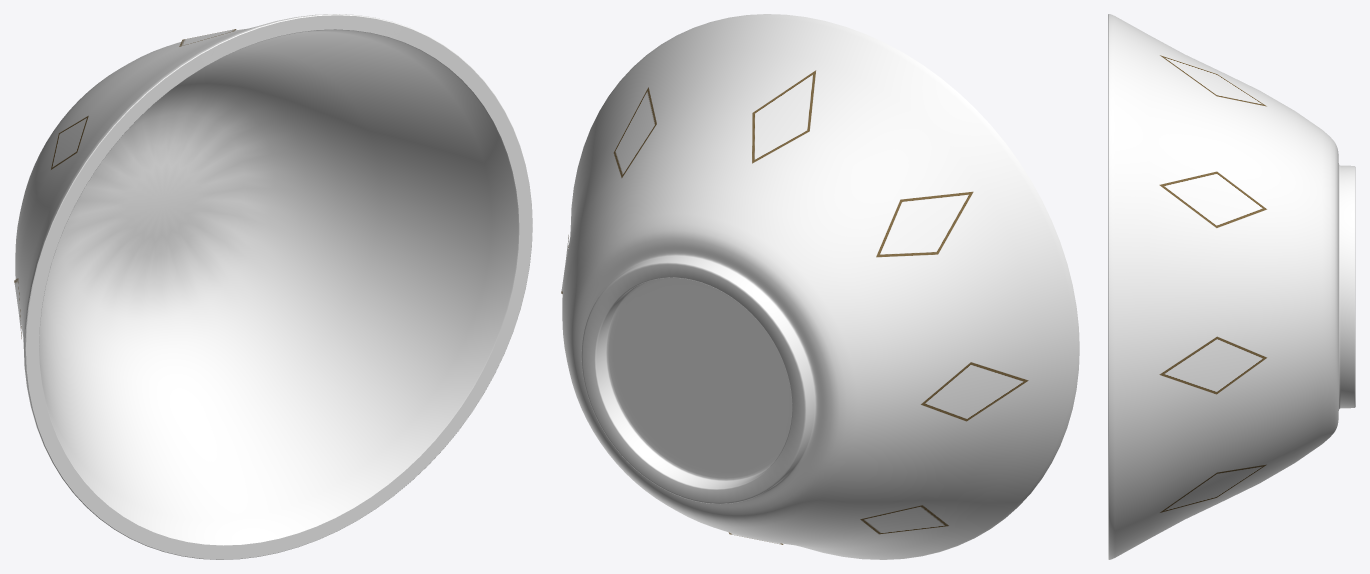
3 views of the same model, side by side, from view 1: azimuth 30°, elevation 25°; view 2: azimuth 150°, elevation 25°; view 3: azimuth 270°, elevation 25° (orthographic). The views are drawn at different scales.
Parts seen in each view (by area): view 1: mk3, mk3-2; view 2: mk3, mk3-2; view 3: mk3, mk3-2.
Part boxes in pixels (x1,y1,x2,y2): mk3: (15,14,532,559); mk3-2: (14,29,236,338); mk3: (562,14,1079,559); mk3-2: (561,70,1028,544); mk3: (1108,14,1355,559); mk3-2: (1159,55,1267,512).
Size of the model in its own units: 76.62 by 76.62 by 34.68.
Materials: 2 (2 with a texture image).
